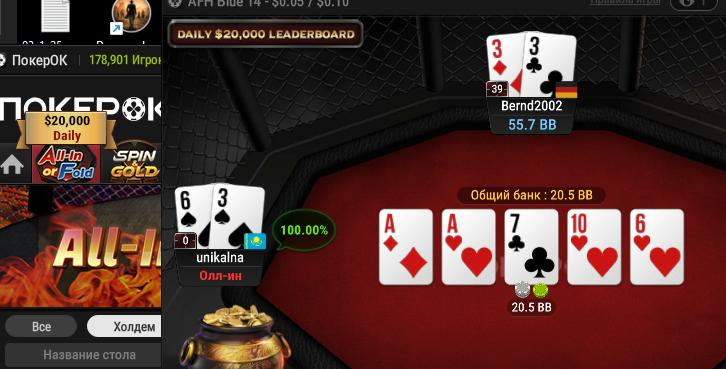10h: (568, 209, 621, 284)
3c: (525, 31, 576, 99)
3d: (486, 33, 524, 97)
3s: (212, 183, 263, 249)
6h: (631, 211, 685, 284)
6s: (173, 183, 212, 248)
7c: (505, 209, 558, 284)
Ad: (378, 208, 433, 285)
Ah: (443, 209, 495, 284)
